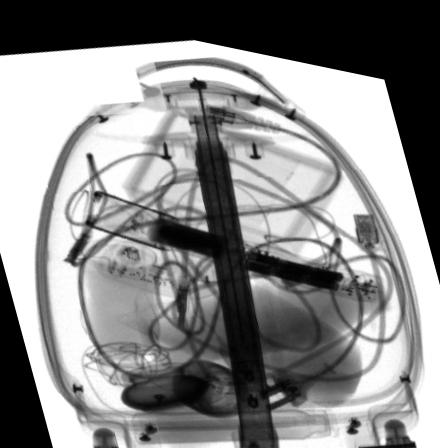Baton: (85, 185, 382, 287)
